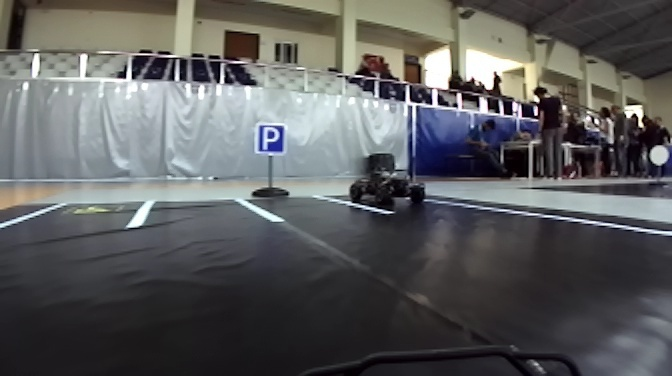park: (255, 121, 290, 157)
